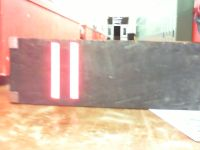switch: (50, 41, 61, 100), (69, 42, 80, 100)
